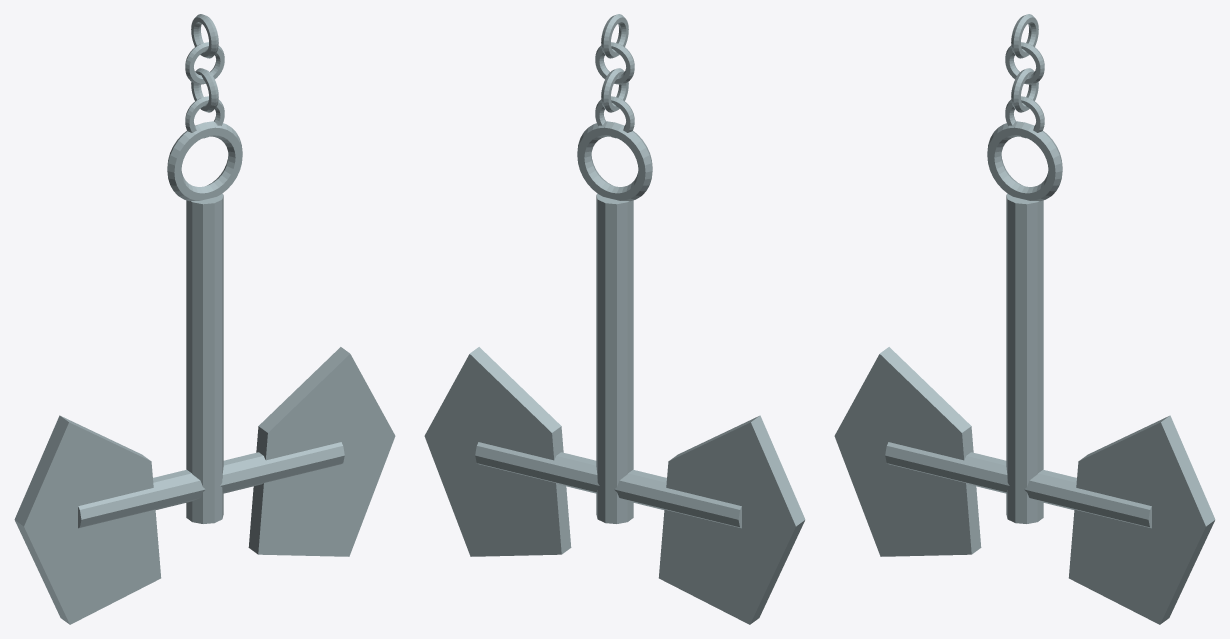
The model's file is harbor-and-tackle-fluke-anchor-d4b917db__19557.glb.
3 views of the same model, side by side, from view 1: azimuth 30°, elevation 25°; view 2: azimuth 150°, elevation 25°; view 3: azimuth 330°, elevation 25° (orthographic).
Visible parts, largest first — view 1: metal; view 2: metal; view 3: metal.
Part boxes in pixels (box(x1,y1,x2,y2)): metal: box(14, 14, 395, 624); metal: box(424, 14, 805, 624); metal: box(834, 14, 1215, 624).
Bounding box in the file's own units: 0.79 × 1.16 × 0.084.
